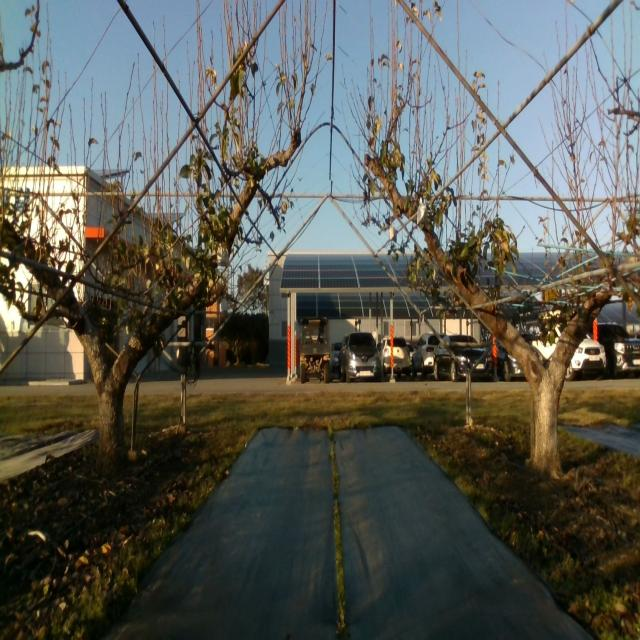pearbags: (216, 245, 231, 268), (417, 196, 428, 226)
